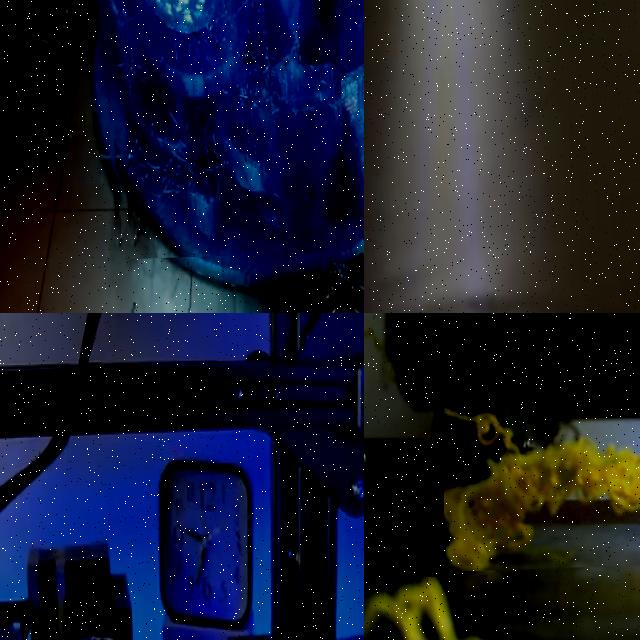spaghetti: (95, 0, 346, 259), (440, 405, 640, 571), (364, 576, 478, 640), (18, 0, 75, 62), (314, 249, 364, 313), (114, 299, 194, 313)
